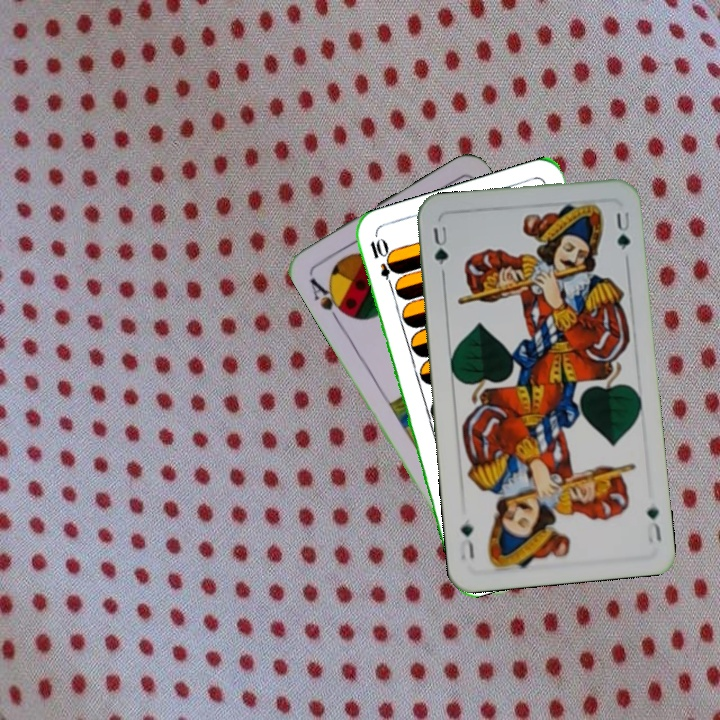E10: (365, 235, 398, 293)
GU: (429, 222, 451, 277), (642, 502, 664, 546)
SA: (306, 274, 351, 325)
